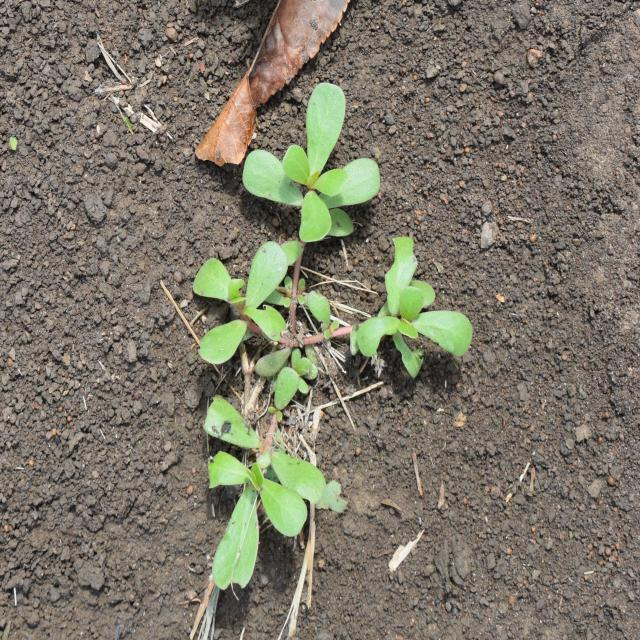Purslane: (192, 81, 473, 592)
